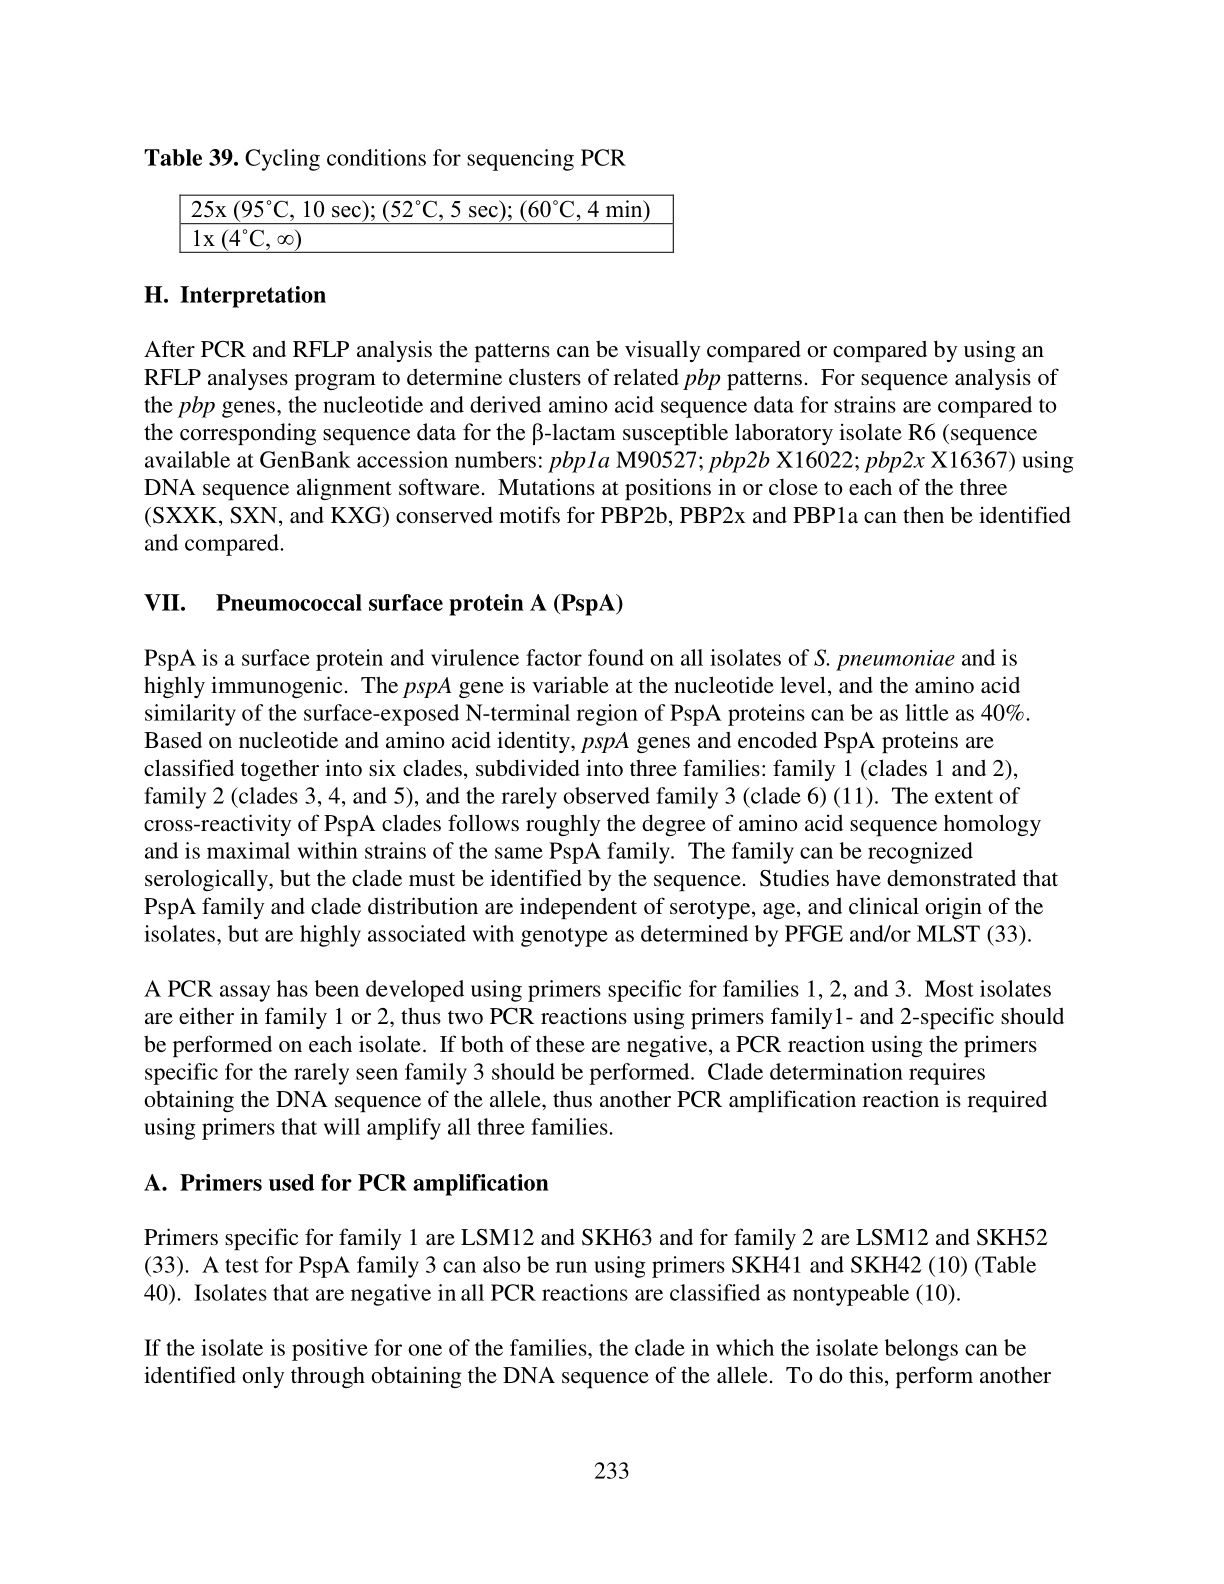full_lined: (179, 194, 674, 253)
